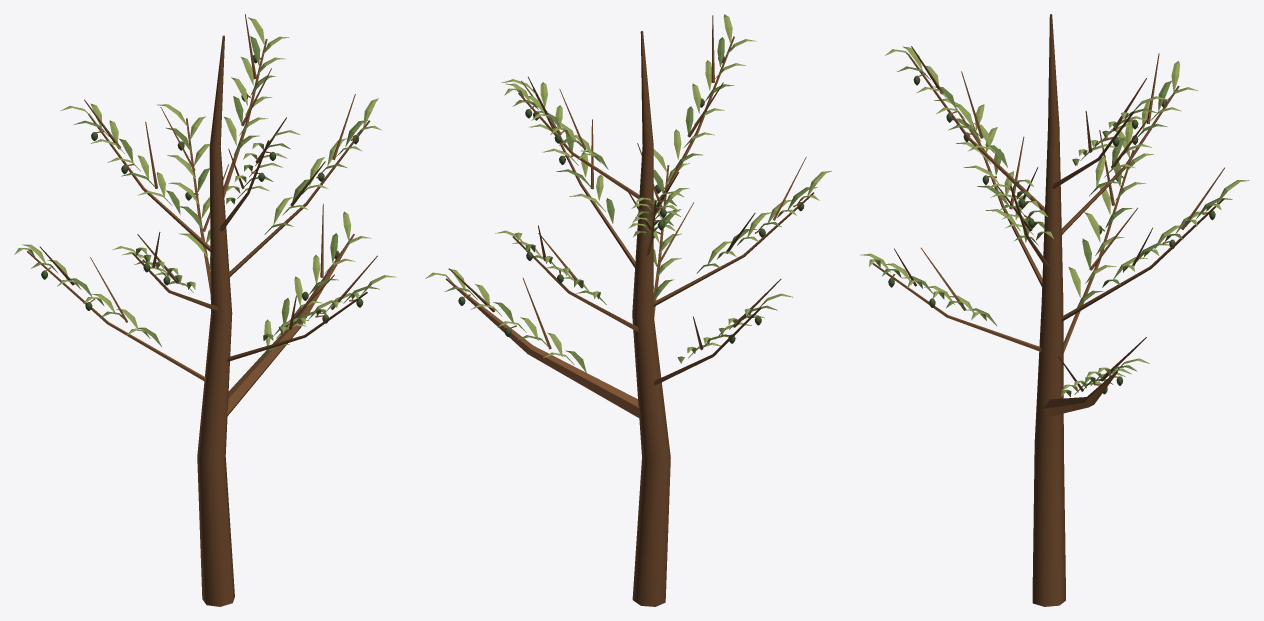
File: crop_olive_tree_mature.glb
The picture shows the model from 3 angles, left to right: view 1: azimuth 30°, elevation 25°; view 2: azimuth 150°, elevation 25°; view 3: azimuth 270°, elevation 25°; orthographic projection. The views are drawn at different scales.
Visible parts, largest first — view 1: olive_b_0, olive_leaf_0_1, olive_leaf_0_0, olive_fruit_0_0; view 2: olive_b_0, olive_leaf_0_1, olive_leaf_0_0, olive_fruit_0_0; view 3: olive_b_0, olive_leaf_0_1, olive_leaf_0_0, olive_fruit_0_0.
Part boxes in pixels (<box>): olive_b_0: <box>27,14,377,606</box>; olive_leaf_0_1: <box>14,17,396,345</box>; olive_leaf_0_0: <box>31,36,379,359</box>; olive_fruit_0_0: <box>41,54,363,323</box>; olive_b_0: <box>445,15,814,606</box>; olive_leaf_0_1: <box>425,14,831,364</box>; olive_leaf_0_0: <box>444,37,817,372</box>; olive_fruit_0_0: <box>458,55,804,343</box>; olive_b_0: <box>872,14,1224,606</box>; olive_leaf_0_1: <box>860,46,1249,394</box>; olive_leaf_0_0: <box>882,66,1232,396</box>; olive_fruit_0_0: <box>888,75,1215,394</box>.
Size of the model in its own units: 1.7 by 2.62 by 1.57.
